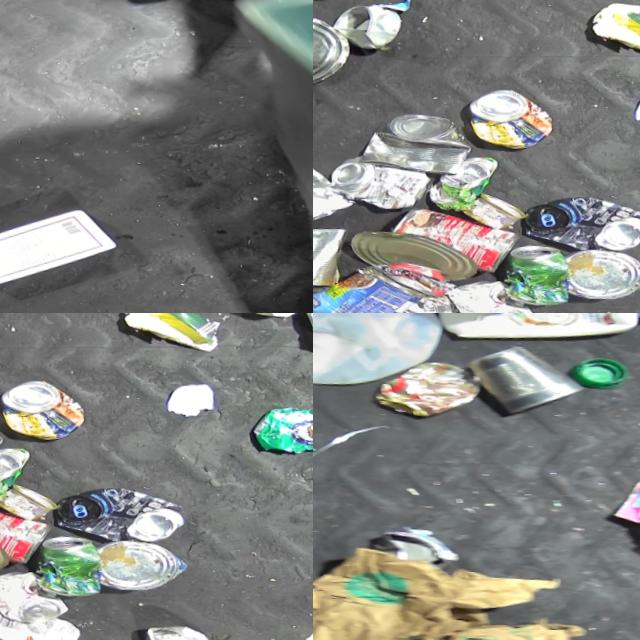can: (389, 194, 526, 280), (465, 330, 588, 417), (55, 472, 190, 547), (356, 102, 477, 181), (350, 218, 482, 286), (523, 180, 640, 256), (369, 346, 485, 420), (313, 251, 434, 313), (329, 147, 436, 214), (466, 78, 558, 151), (0, 369, 89, 441), (99, 528, 194, 591), (502, 233, 576, 303), (34, 524, 108, 594), (0, 557, 75, 623), (427, 148, 504, 211), (0, 485, 57, 570), (567, 236, 640, 300), (446, 266, 543, 313), (251, 388, 313, 451), (328, 0, 403, 52), (313, 6, 356, 94), (463, 183, 530, 229), (313, 219, 355, 291), (0, 474, 61, 520), (146, 611, 229, 640), (0, 438, 36, 501)
milk_jug: (313, 313, 449, 396)
